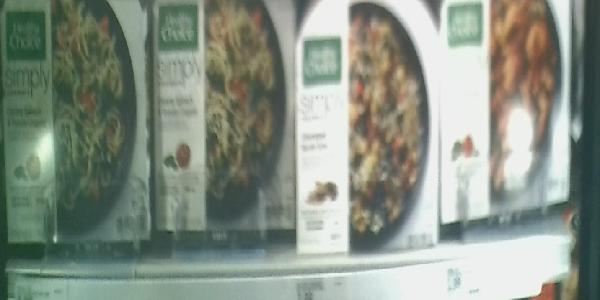pizza1: (2, 1, 152, 256), (293, 1, 439, 249), (152, 1, 291, 231), (440, 2, 572, 228)
